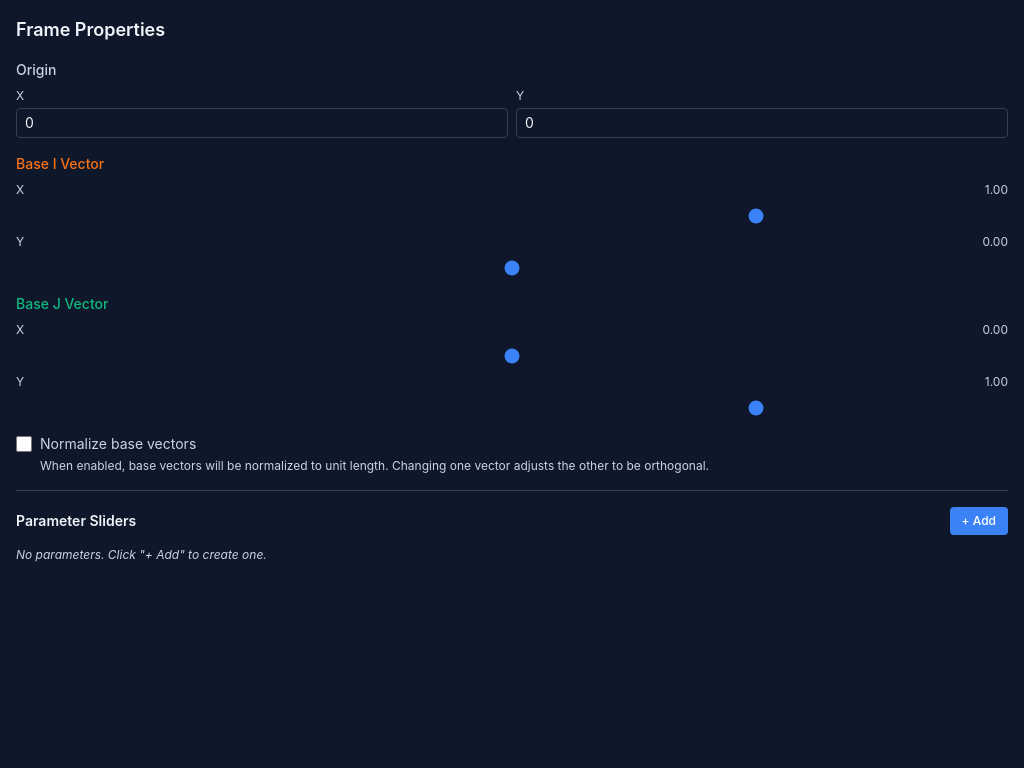
PropertiesPanel › should clear error when valid input is entered after invalid input
The image size is (1024, 768).
Note: Enter invalid input
Replace the text in the 1st number field showing "0" with "invalid" at (262, 123), box [16, 108, 508, 138]
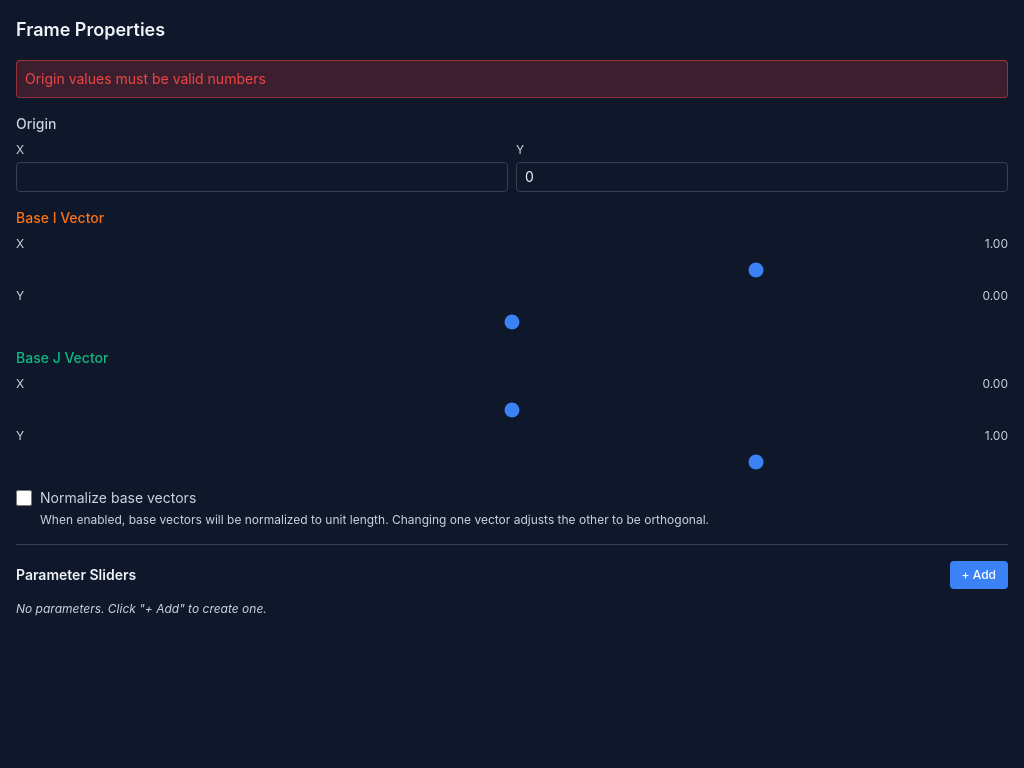
Expected: the text "Origin values must be valid numbers" is shown, [16, 60, 1008, 98]
Note: Enter valid input
Type "5" into the 1st number field showing "0" at (262, 177), box [16, 162, 508, 192]
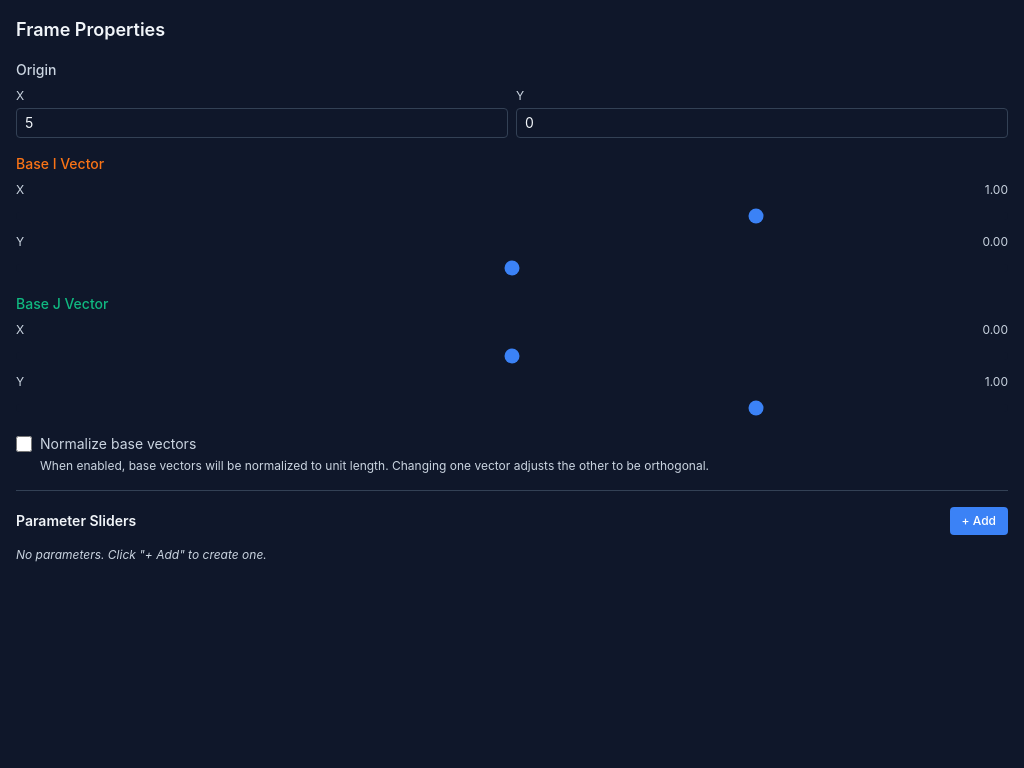
Expected: the text "Origin values must be valid numbers" is gone
